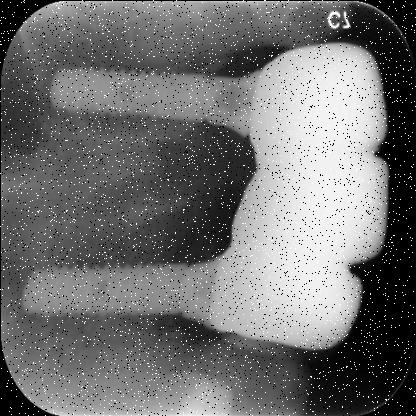ITI: (12, 248, 209, 324), (44, 61, 214, 122)
